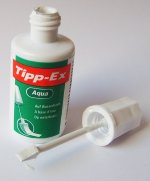Correction_fluid: (8, 4, 78, 144)
